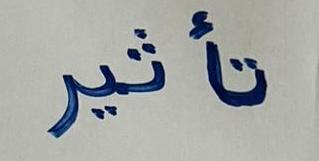hamza: (185, 4, 226, 118)
reh: (39, 61, 80, 148)
teh: (227, 45, 273, 125)
theh: (124, 16, 173, 113)
yeh: (81, 52, 122, 125)
